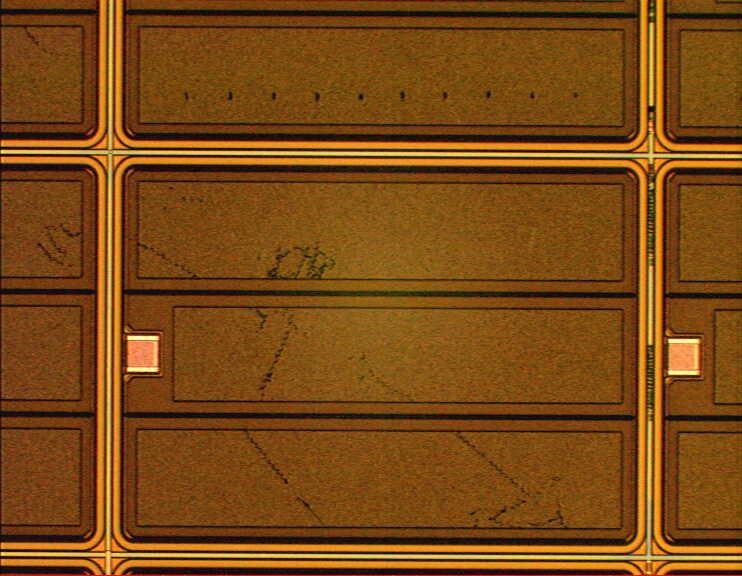SCRATCH: (11, 10, 586, 544)
